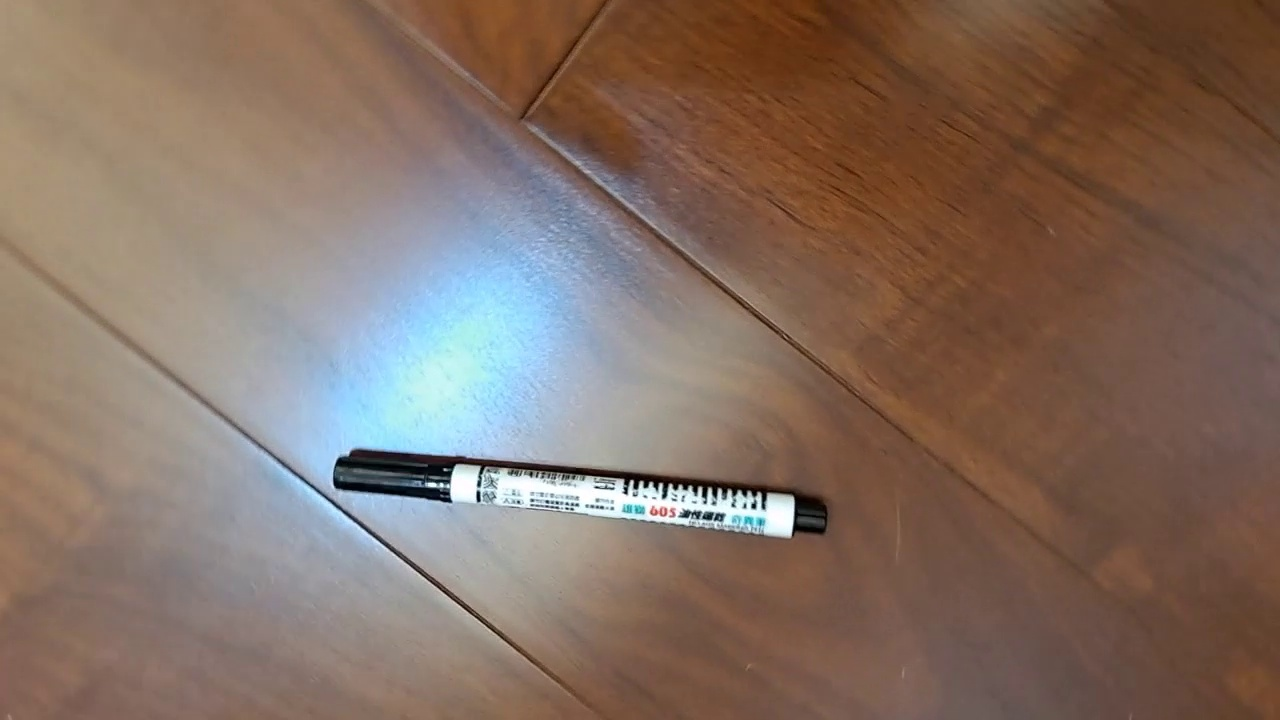pen: (332, 447, 829, 541)
